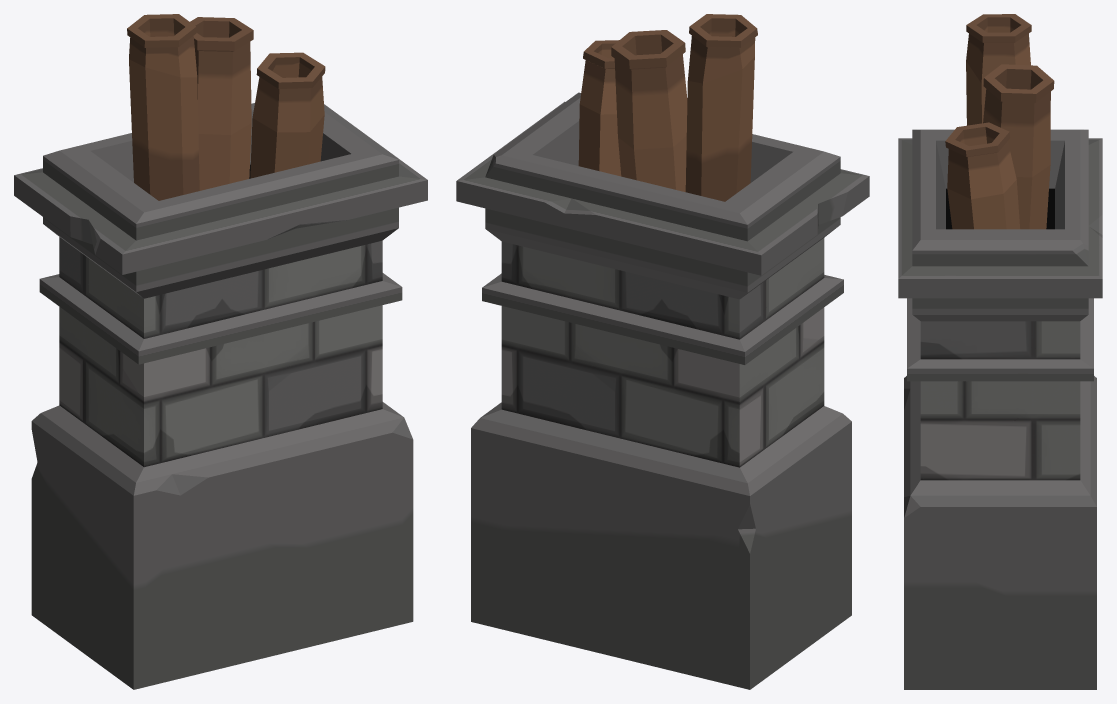
File: SM_Bld_Chimney_Top_02.fbx
3 views of the same model, side by side, from view 1: azimuth 30°, elevation 25°; view 2: azimuth 150°, elevation 25°; view 3: azimuth 270°, elevation 25° (orthographic). The views are drawn at different scales.
Visible parts, largest first — view 1: SM_Bld_Chimney_Top_02; view 2: SM_Bld_Chimney_Top_02; view 3: SM_Bld_Chimney_Top_02.
Boxes of the visible parts, x1,y1,x2,y2 form: SM_Bld_Chimney_Top_02: (14, 14, 427, 689); SM_Bld_Chimney_Top_02: (456, 14, 869, 689); SM_Bld_Chimney_Top_02: (898, 14, 1102, 689).
Size of the model in its own units: 187 by 356 by 115.
